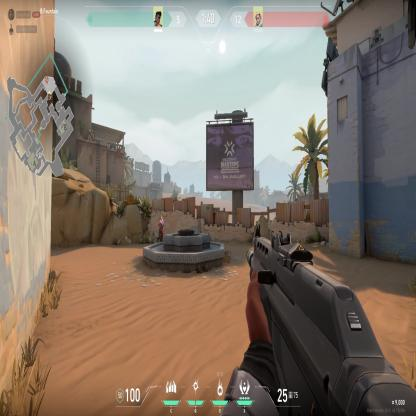enemy: (156, 214, 164, 243)
